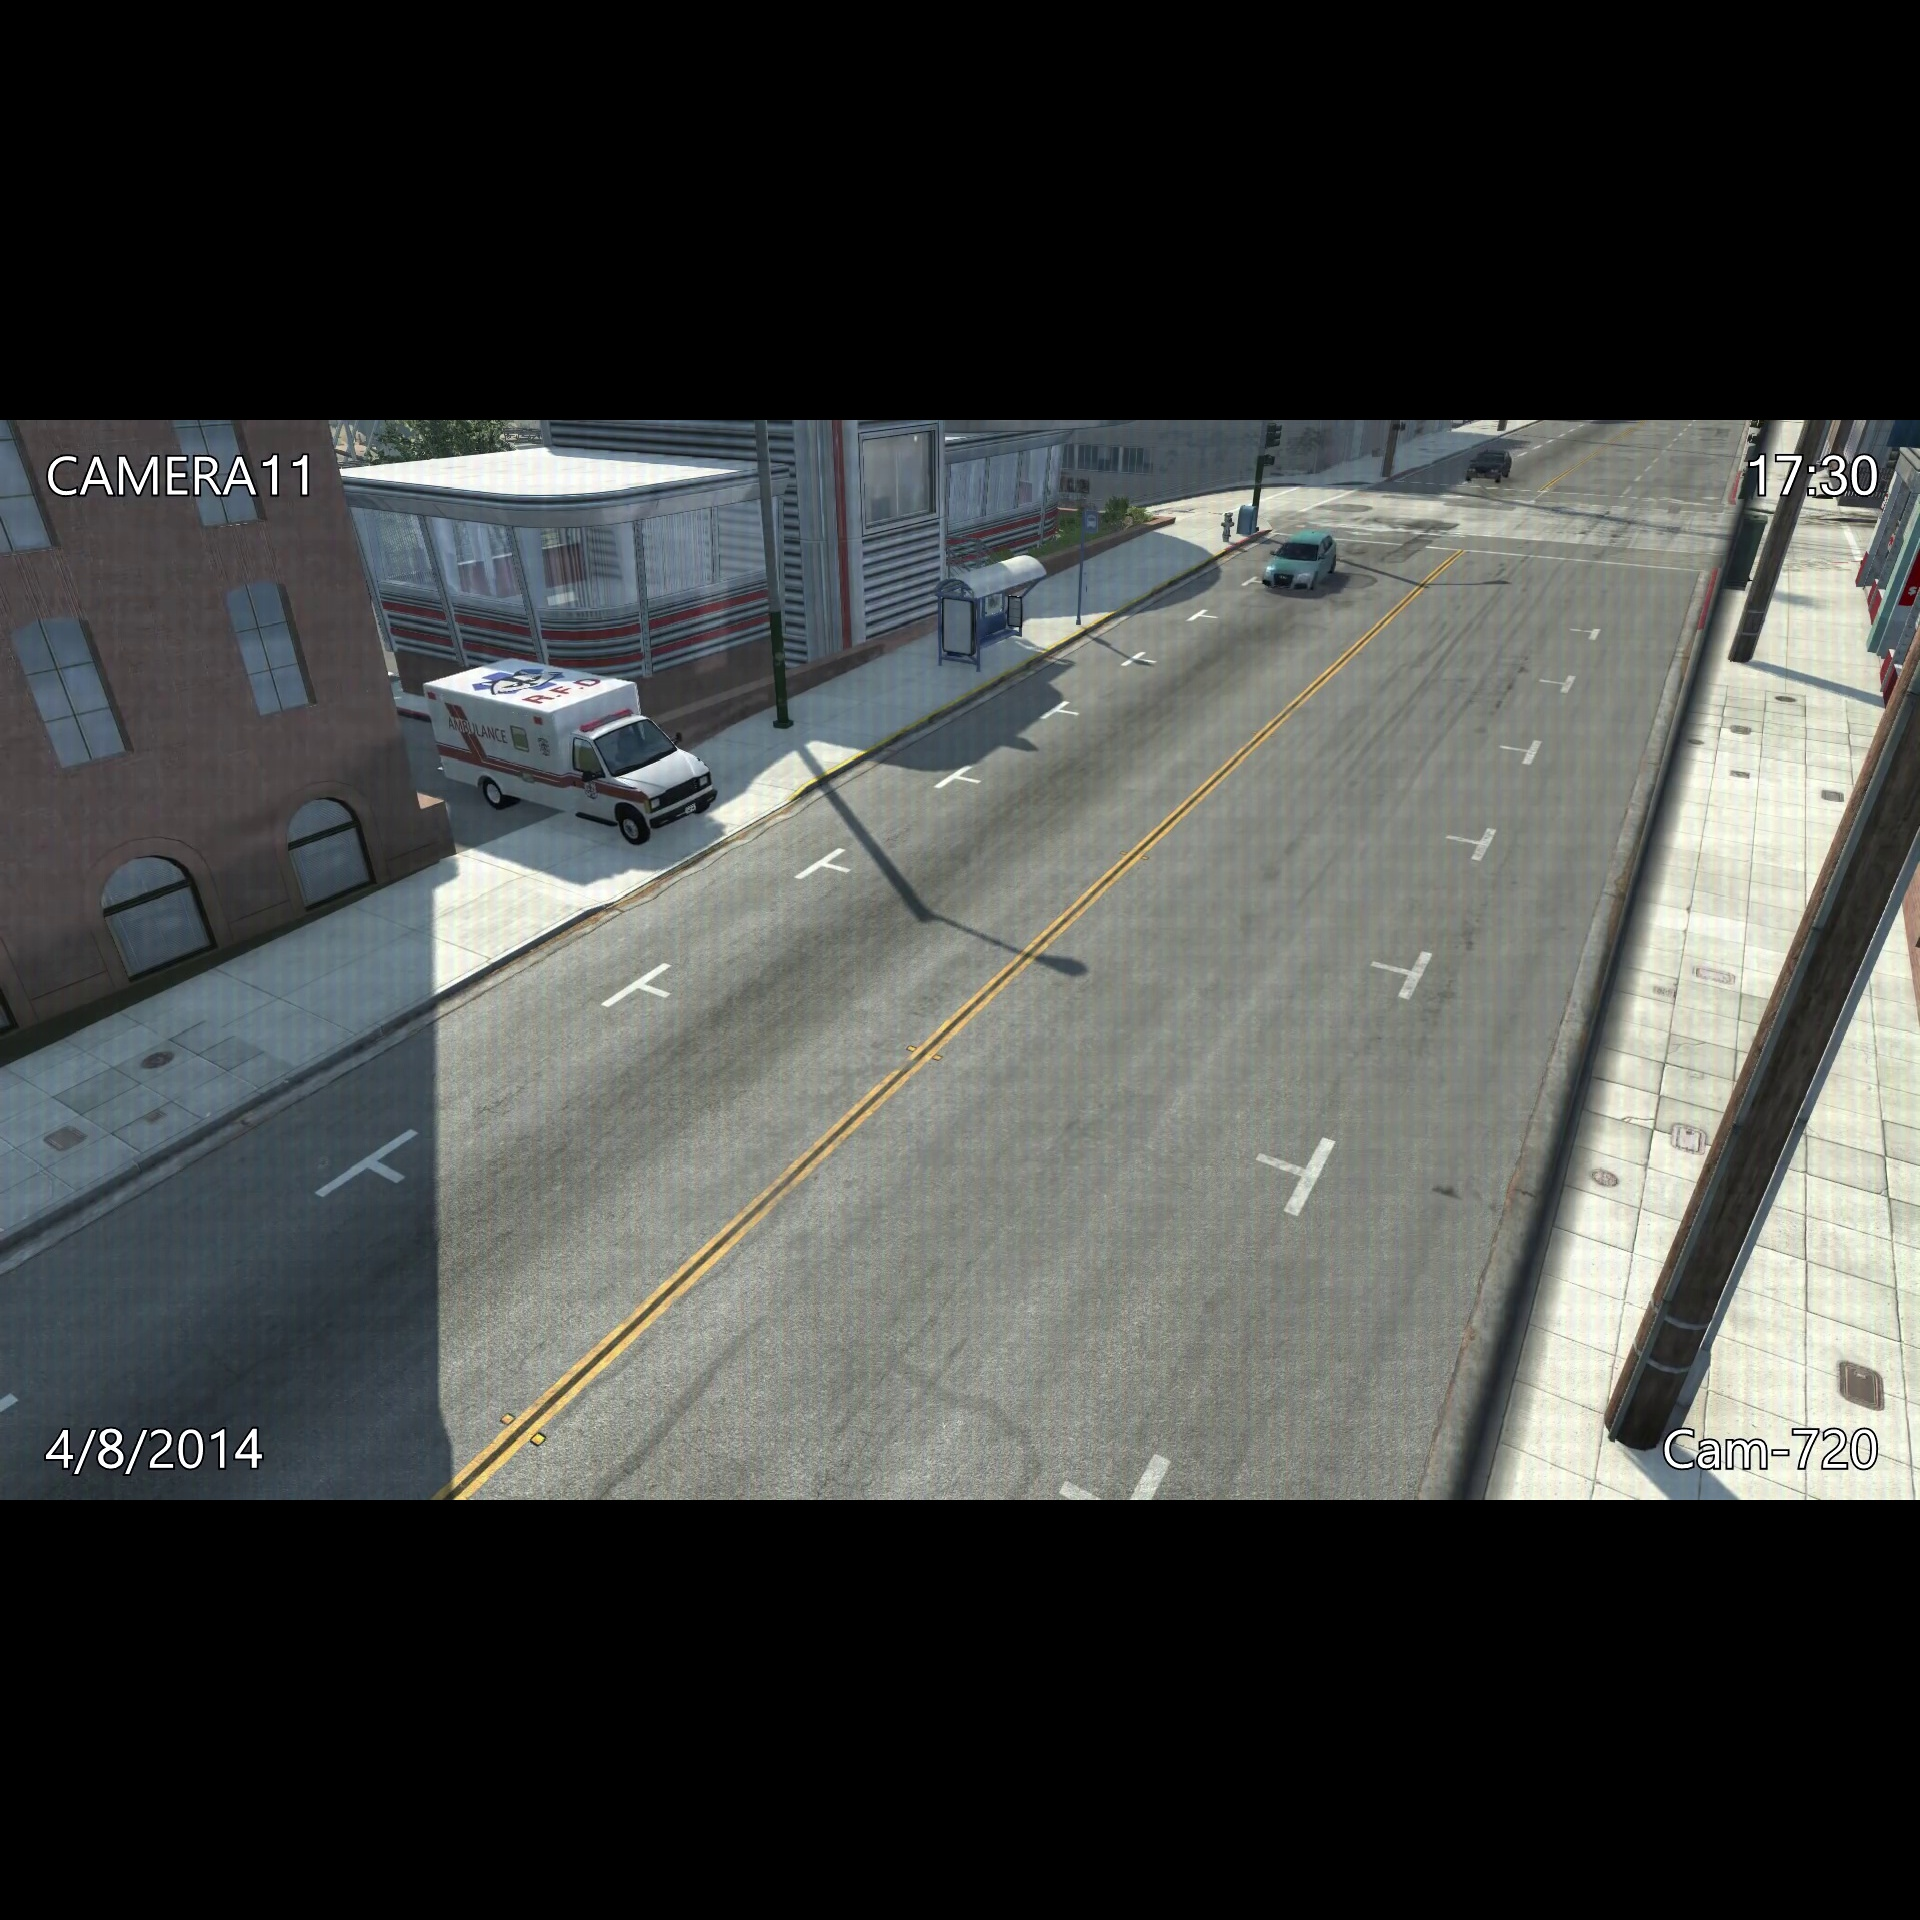vehicle: (420, 651, 723, 853), (1255, 531, 1342, 598), (1461, 445, 1519, 492)
